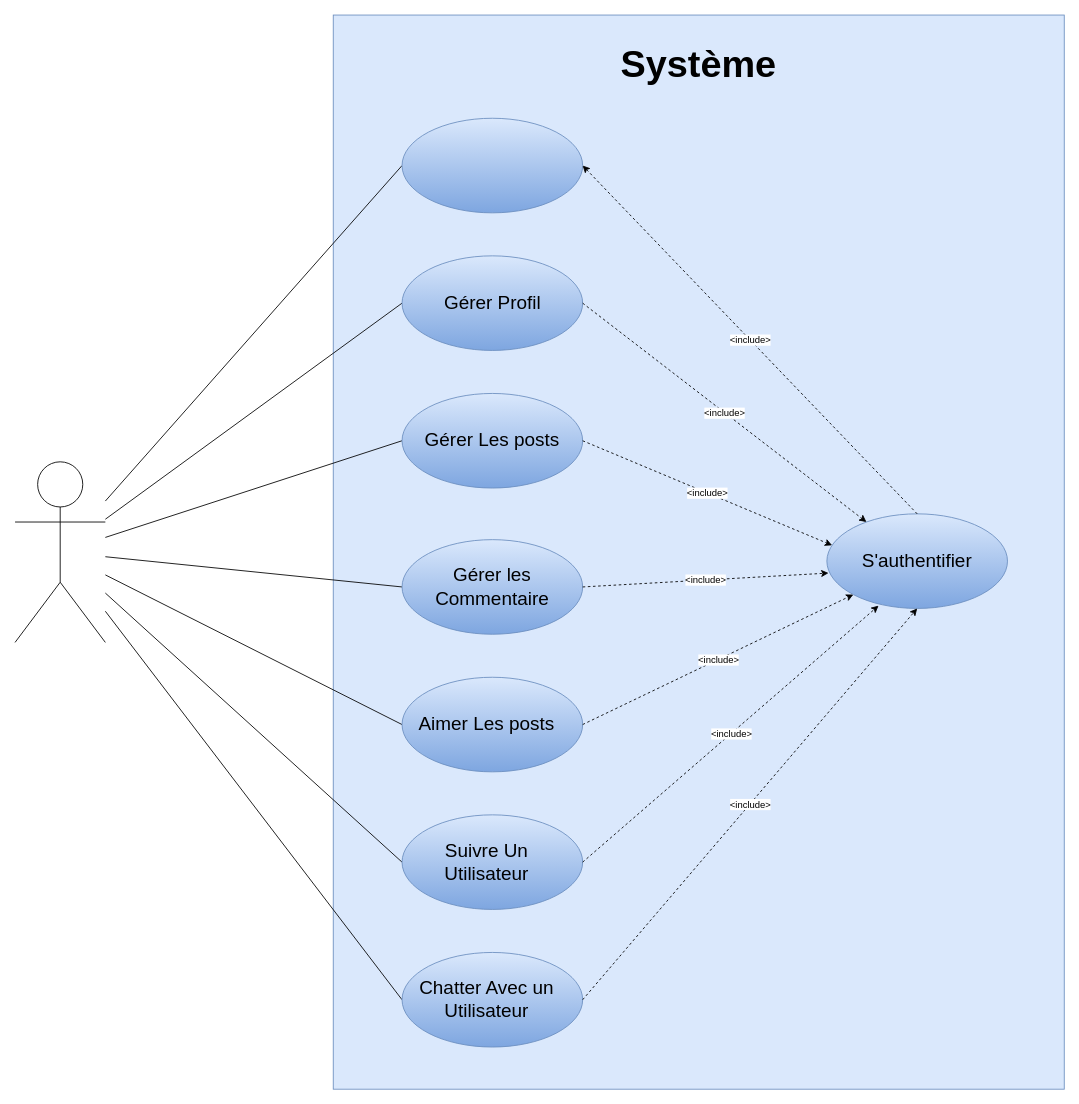
Image size: 1079x1104. Some labels were removed from this diagram. The shapes that lost their labels are listed below. From the top down, each one's box as (x1, y1, x2, y2) in pixels, then its label:
(401, 117, 583, 213): S'inscrire
(14, 461, 105, 642): Utilisateur
